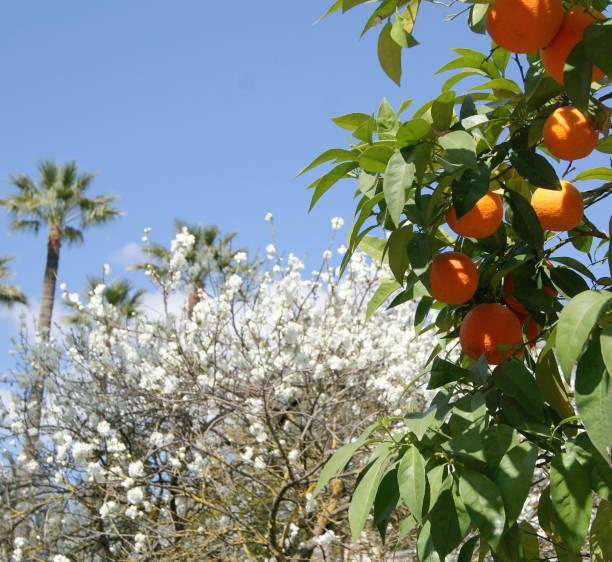orange: (458, 0, 612, 79), (439, 181, 529, 249), (454, 295, 532, 358), (543, 90, 612, 158), (507, 168, 574, 218), (419, 253, 481, 304)
